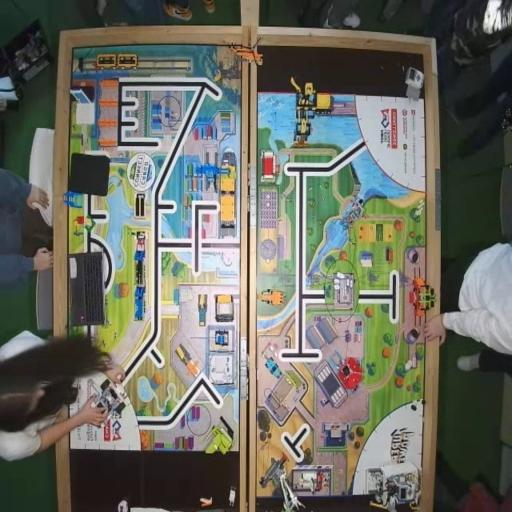lego_robot: (365, 467, 421, 512), (89, 378, 128, 423)
